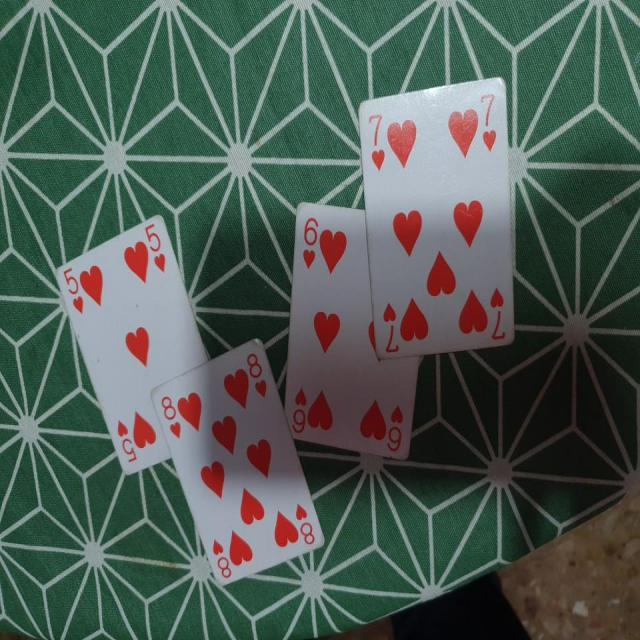5 Hearts: (56, 210, 229, 485)
6 Hearts: (279, 200, 418, 469)
7 Hearts: (358, 70, 518, 359)
8 Hearts: (150, 333, 330, 591)
